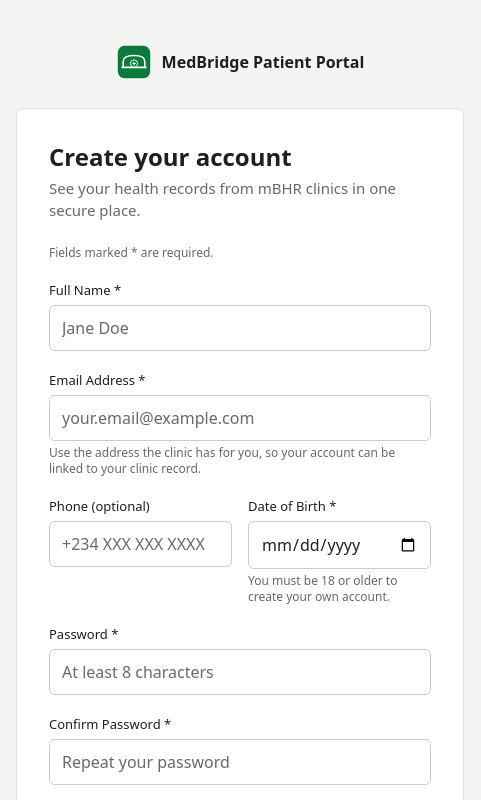
Test: PatientRegister (online mode) › does not sign up without a date of birth
This screenshot has width=481, height=800.
Type "Ada Obi" into the field labelled "Full Name *". click: (240, 328)
box: [49,305,431,351]
Type "ada@test.com" into the field labelled "Email Address *". click: (240, 418)
box: [49,395,431,441]
Type "long-enough" into the password field labelled "Password *". click: (240, 672)
box: [49,649,431,695]
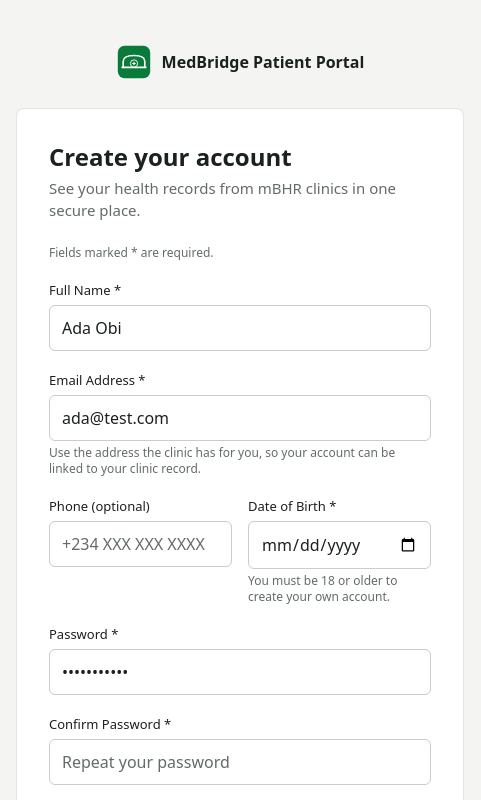
Type "long-enough" into the password field labelled "Confirm Password *". click: (240, 762)
box: [49,739,431,785]
(page scrolled)
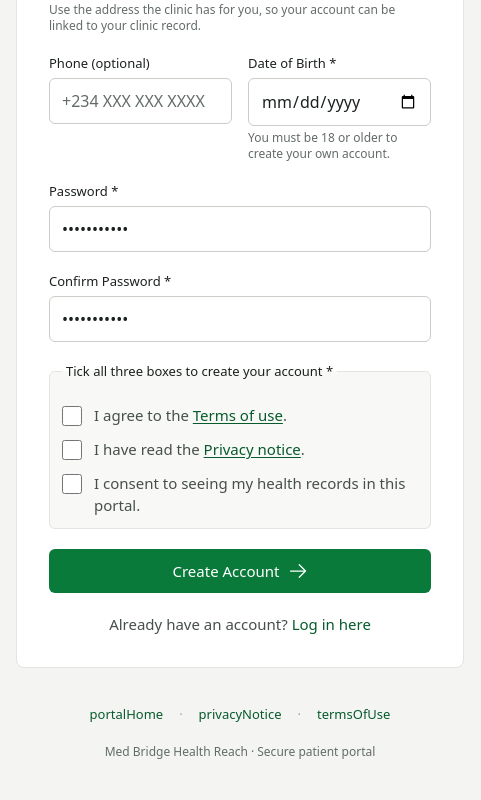
Click the checkbox with id "consent-terms". click: (72, 416)
box: [62,406,82,426]
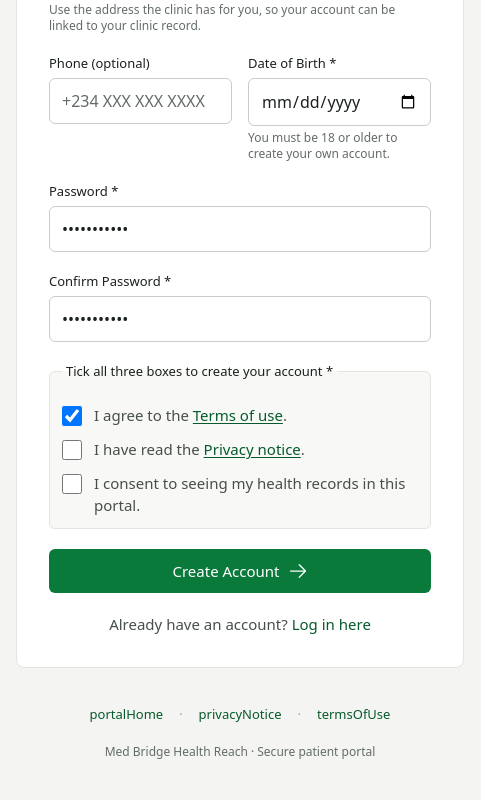
Click the checkbox with id "consent-privacy". click: (72, 450)
box: [62,440,82,460]
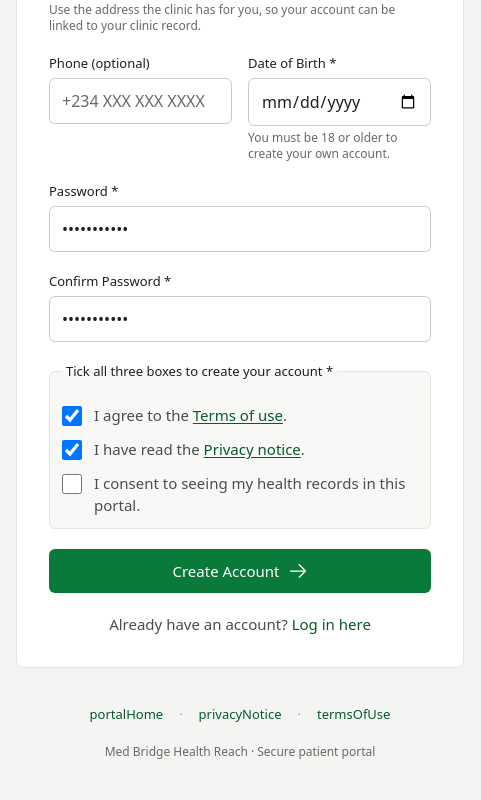
Click the checkbox with id "consent-records". click: (72, 484)
box: [62,474,82,494]
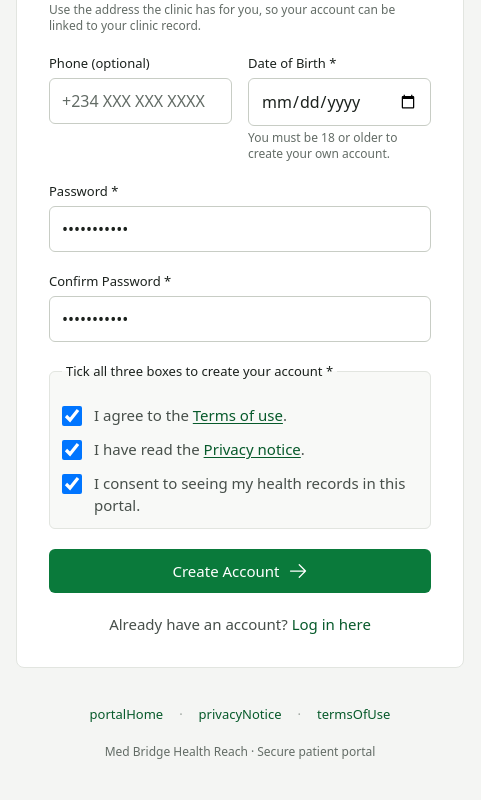
Submit the form from the button "Create Account", box [49,549,431,593]
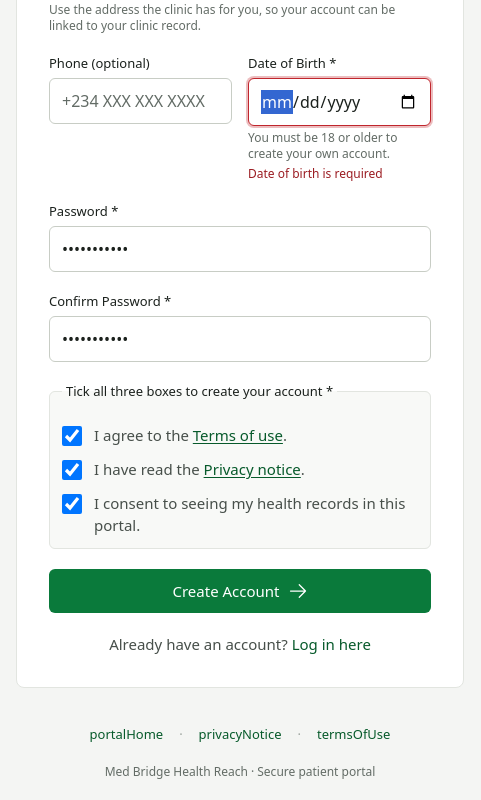
Expected: the text "Date of birth is required" is shown, [248,165,383,182]
